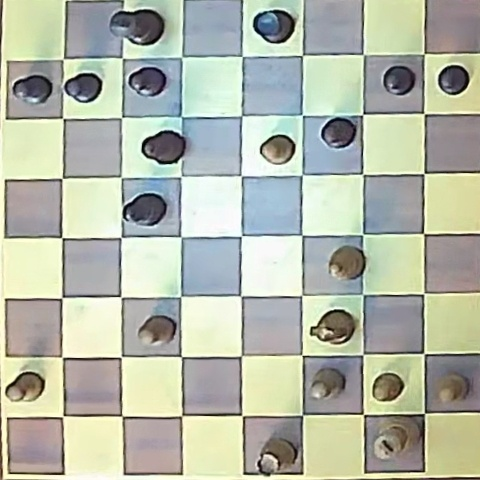black-bishop: (142, 130, 185, 164), (123, 193, 166, 226), (321, 118, 356, 148)
black-king: (111, 8, 163, 46)
black-pawn: (13, 74, 52, 104), (64, 72, 103, 102), (128, 67, 166, 96), (438, 65, 470, 95), (383, 66, 415, 95)
black-rook: (254, 9, 294, 43)
white-bishop: (328, 246, 365, 280)
white-king: (373, 417, 420, 460)
white-knight: (311, 310, 354, 345)
white-pawn: (6, 372, 44, 402), (138, 316, 175, 346), (310, 368, 344, 400), (260, 135, 295, 164), (372, 373, 404, 402), (436, 374, 466, 404)
white-rook: (257, 438, 296, 475)
